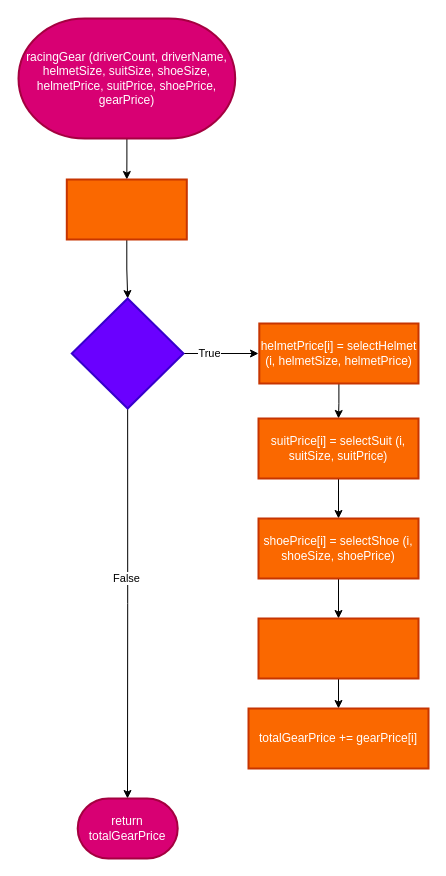
The diagram is 446 pixels wide and 876 high, and some of its shapes have lost their labels. Here are the shapes that lost their labels. From the top down, the box of each, then its label:
(65, 178, 187, 240): totalGearPrice = 0
(70, 297, 184, 409): i = 0, i < driverCount, i++
(257, 617, 419, 679): gearPrice[i] = helmetPrice[i] + suitPrice[i] + shoePrice[i]
